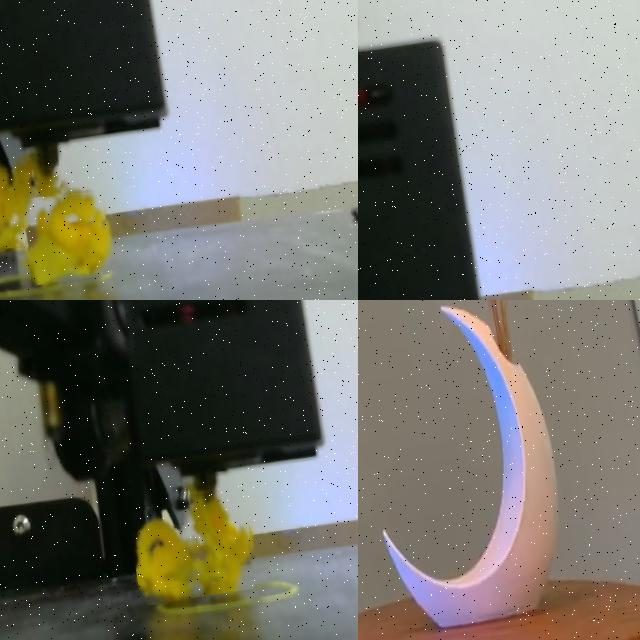spaghetti: (137, 493, 251, 602), (28, 194, 110, 285), (0, 156, 62, 250)
